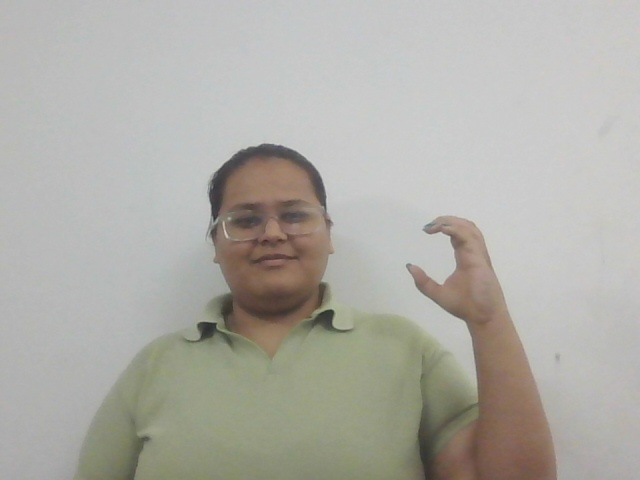C: (402, 212, 506, 328)
